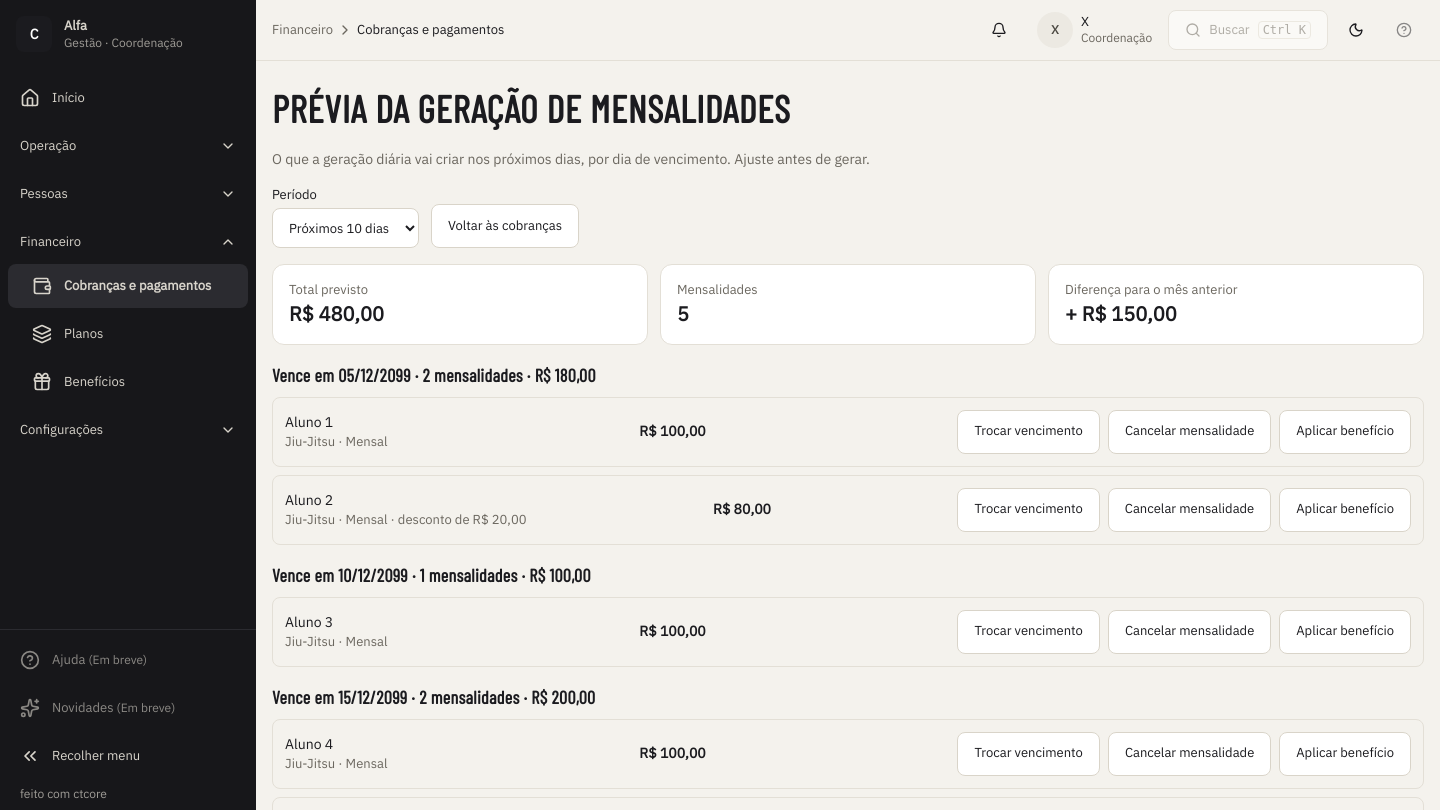
ChargePreviewPage (RF-COB-03) › falha do servidor na janela mostra a mensagem e mantém a janela aberta
Expected: the text "Total previsto" is shown, 289,281 -> 368,298
Click the button with aria-label "Cancelar mensalidade de Aluno 1". click: {"x": 1190, "y": 432}
box: 1108,410 -> 1271,454
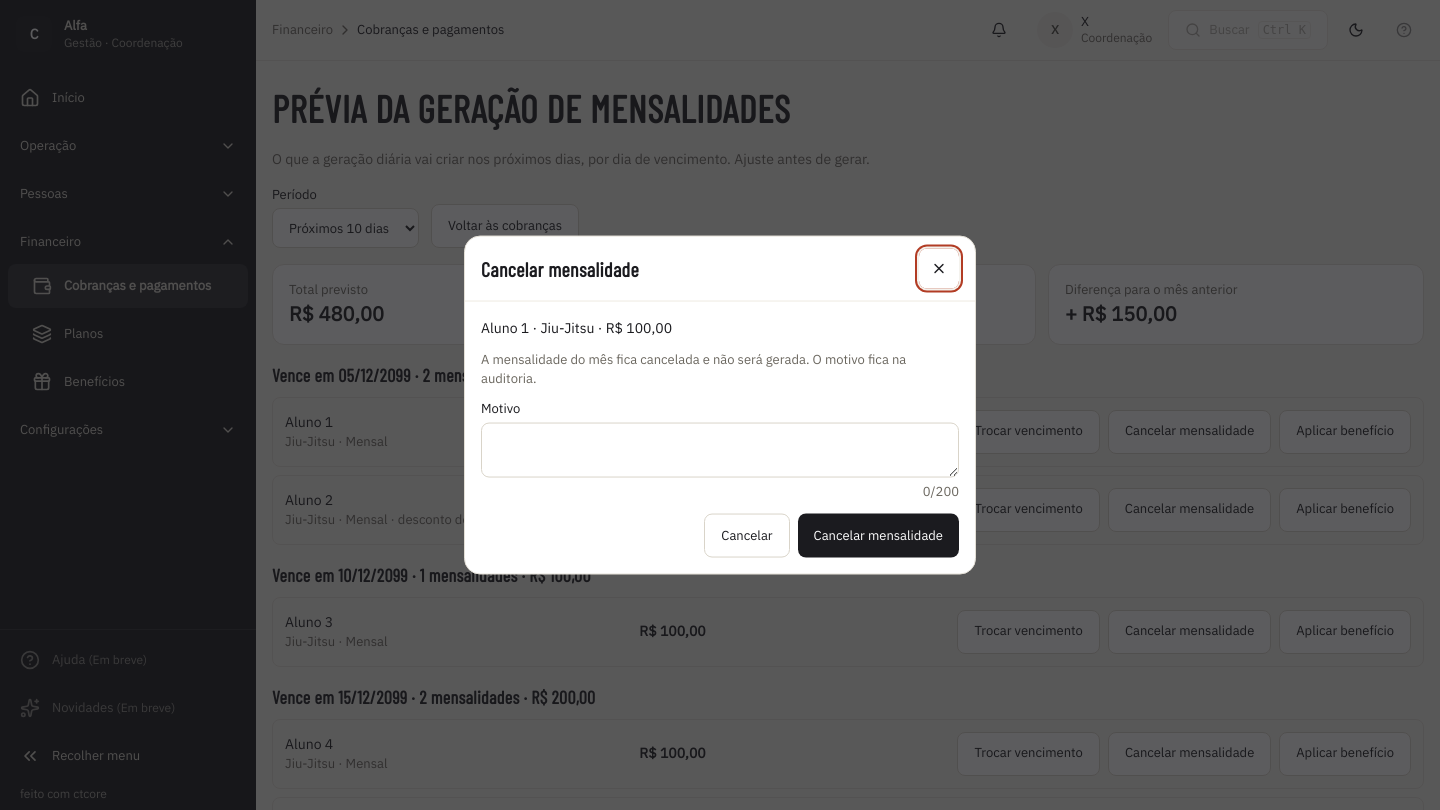
Type "x" into the text box labelled "Motivo 0/200". click: {"x": 720, "y": 450}
box: 481,422 -> 959,477
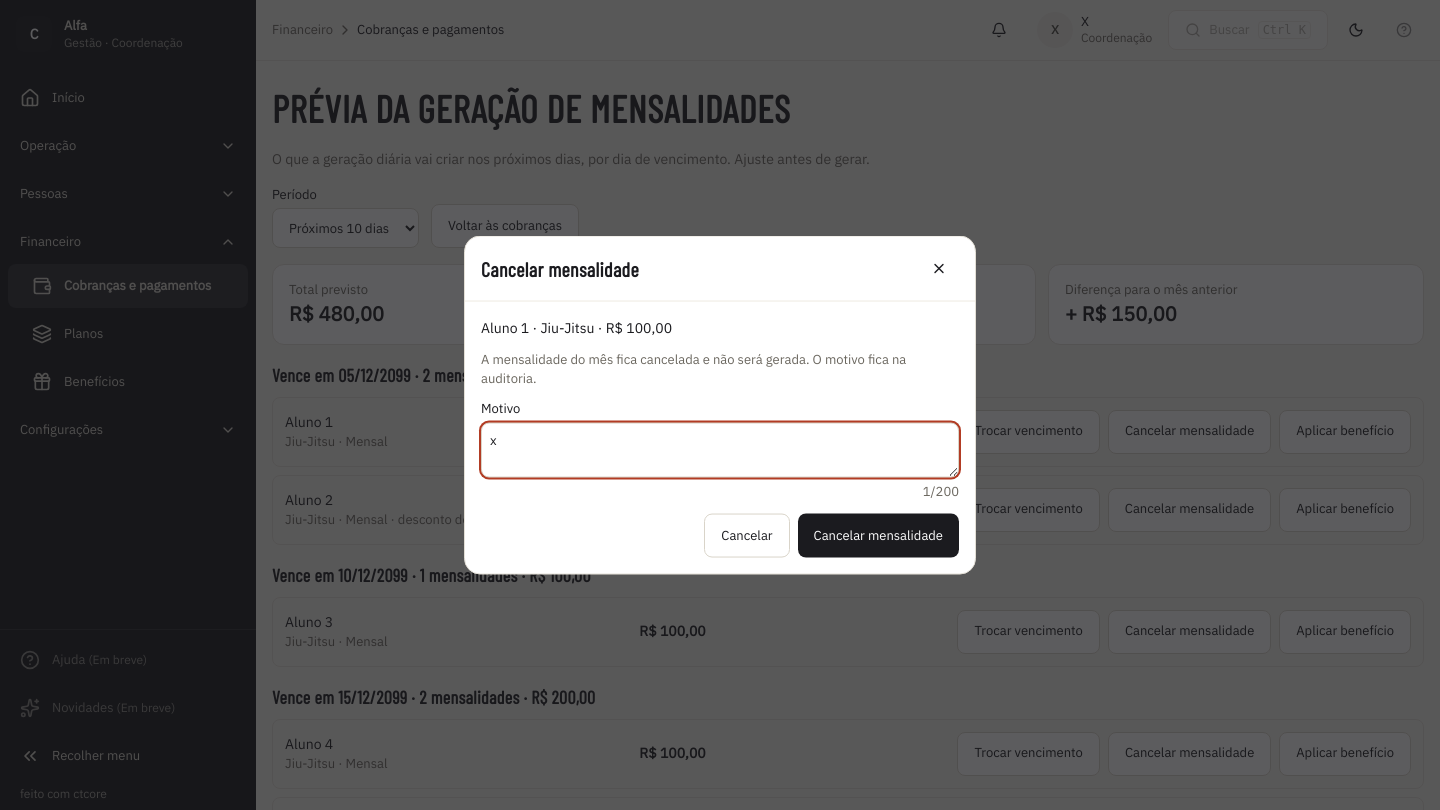
Click the button "Cancelar mensalidade". click: {"x": 878, "y": 536}
box: 798,514 -> 959,558
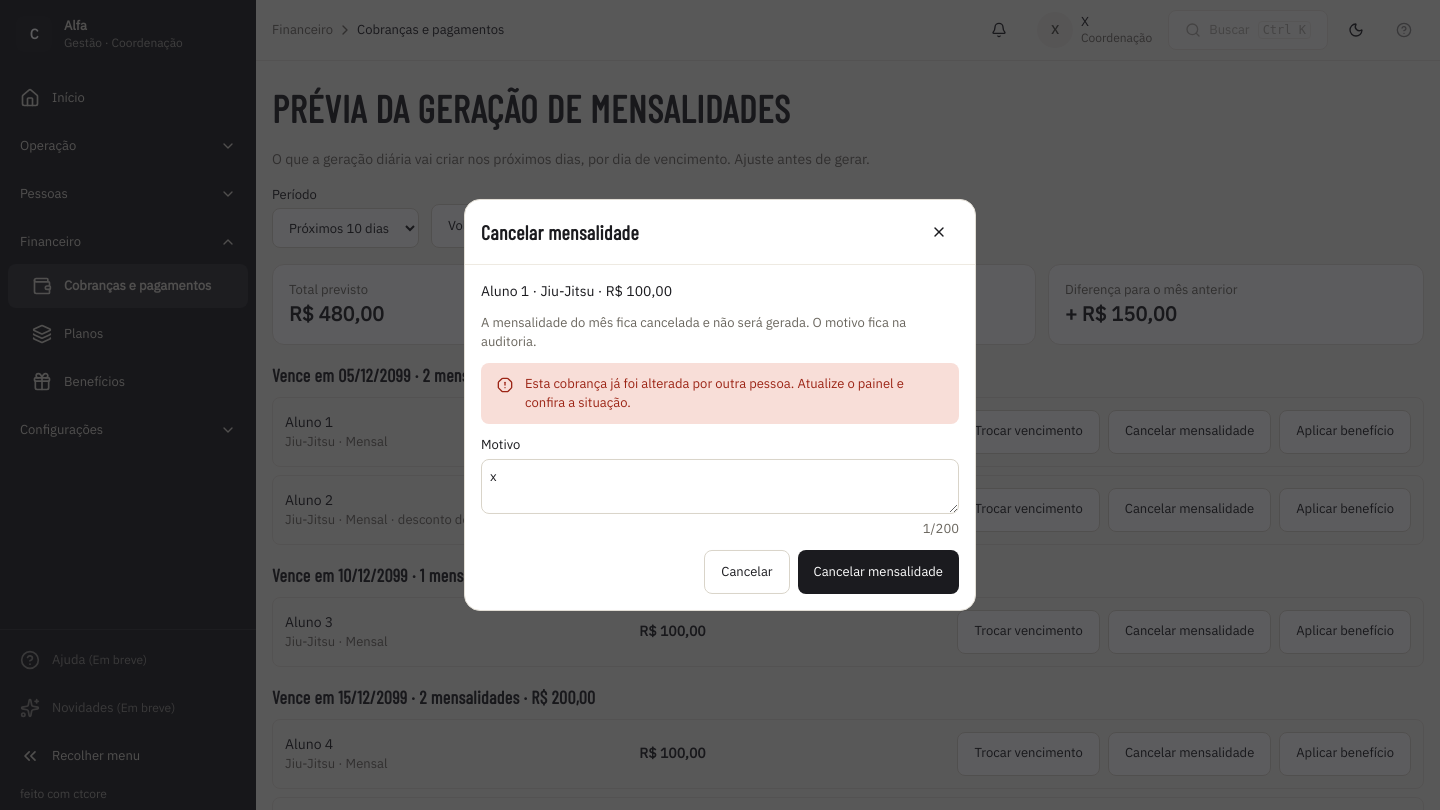
Expected: the message is shown, 481,363 -> 959,424
Click the button "Cancelar". click: {"x": 747, "y": 572}
box: 704,550 -> 790,594
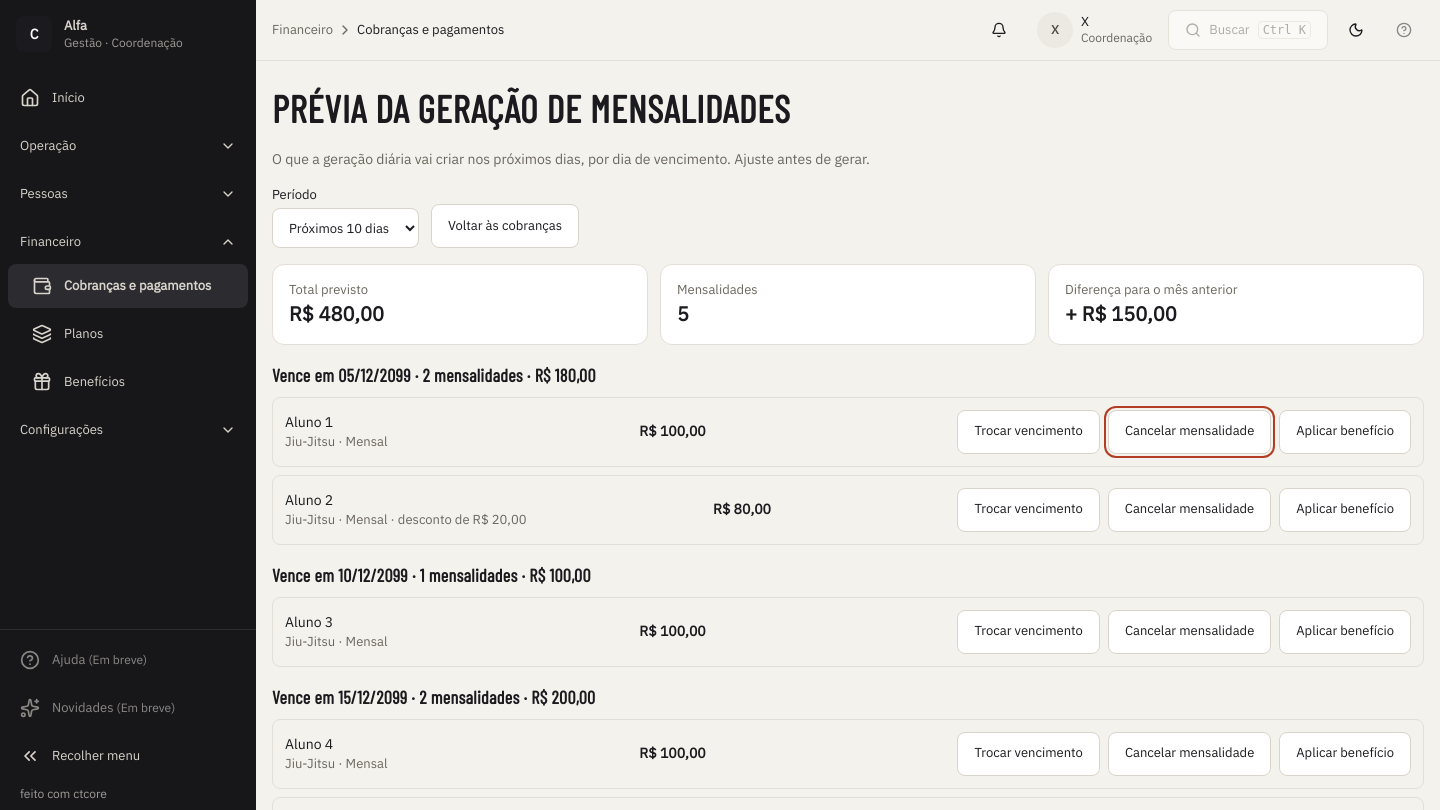
Expected: the dialog is gone
